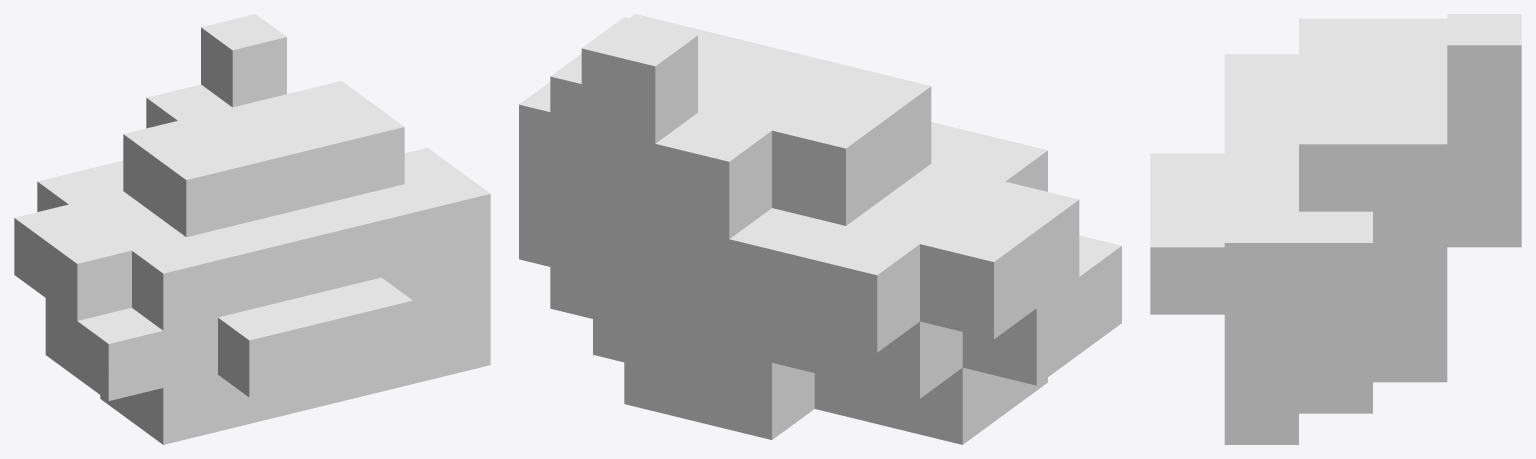
File: voxel_small 01_optimized.fbx
3 views of the same model, side by side, from view 1: azimuth 30°, elevation 25°; view 2: azimuth 150°, elevation 25°; view 3: azimuth 270°, elevation 25° (orthographic). The views are drawn at different scales.
Parts seen in each view (by area): view 1: voxelize; view 2: voxelize; view 3: voxelize.
Part boxes in pixels (<box>): voxelize: <box>14,14,490,444</box>; voxelize: <box>519,14,1121,444</box>; voxelize: <box>1150,14,1521,444</box>.
Bounding box in the file's own units: 0.84 × 0.6 × 0.6.
